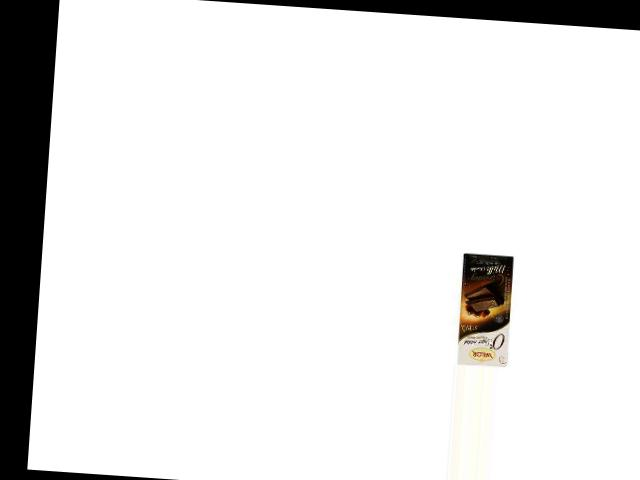chocolate: (454, 252, 517, 367)
